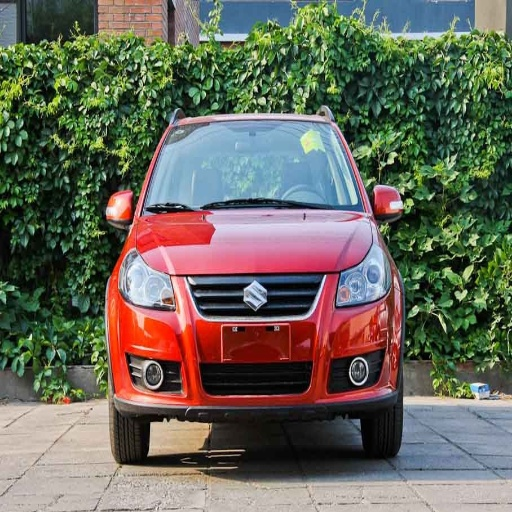front_bumper: (114, 271, 397, 415)
front_right_light: (115, 251, 178, 310)
hood: (132, 212, 374, 274)
left_mirror: (372, 184, 406, 222)
